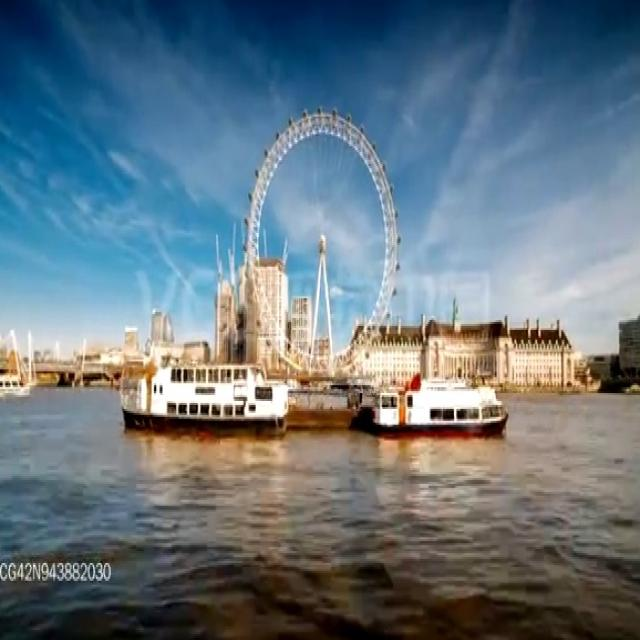passenger ship: (121, 354, 285, 431), (372, 374, 506, 431), (0, 358, 31, 399)
